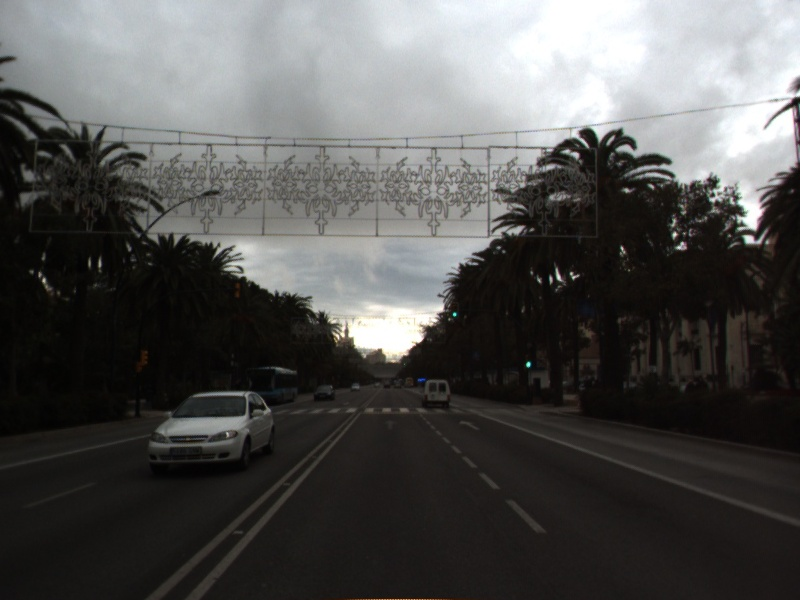STRAIGHT: (457, 418, 482, 432), (381, 418, 401, 432)
